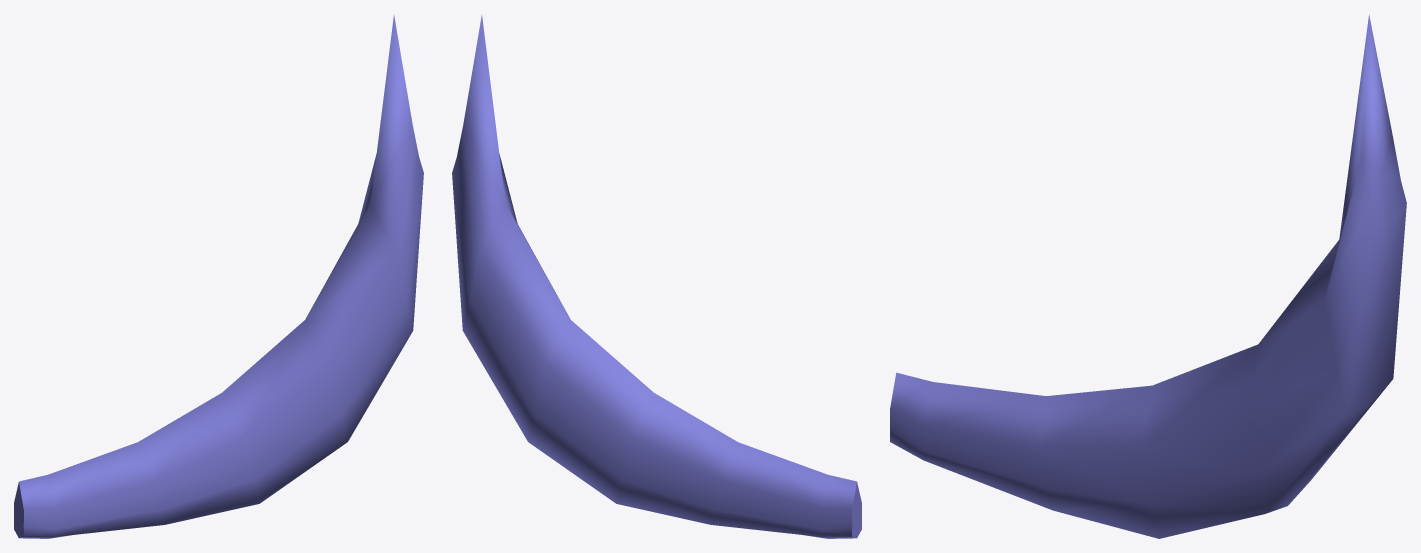
Rendered from Simorgh_Part_5.fbx.
3 renders of one model, left to right at view 1: azimuth 30°, elevation 25°; view 2: azimuth 150°, elevation 25°; view 3: azimuth 330°, elevation 25°, orthographic. The views are drawn at different scales.
Visible parts, largest first — view 1: Simorgh_Part_006; view 2: Simorgh_Part_006; view 3: Simorgh_Part_006.
Part boxes in pixels (bbox=[...]): Simorgh_Part_006: bbox=[14, 15, 423, 538]; Simorgh_Part_006: bbox=[452, 15, 861, 538]; Simorgh_Part_006: bbox=[890, 14, 1406, 538].
Bounding box in the file's own units: 65.09 × 71.24 × 10.77.
